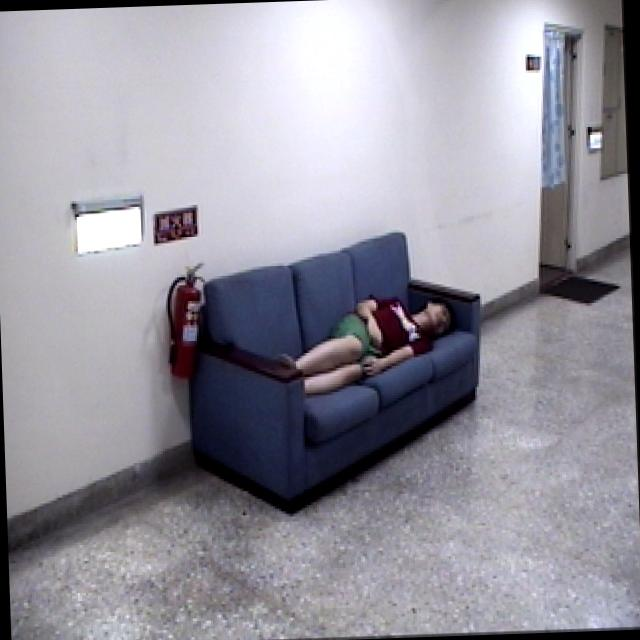lie: (272, 289, 463, 400)
